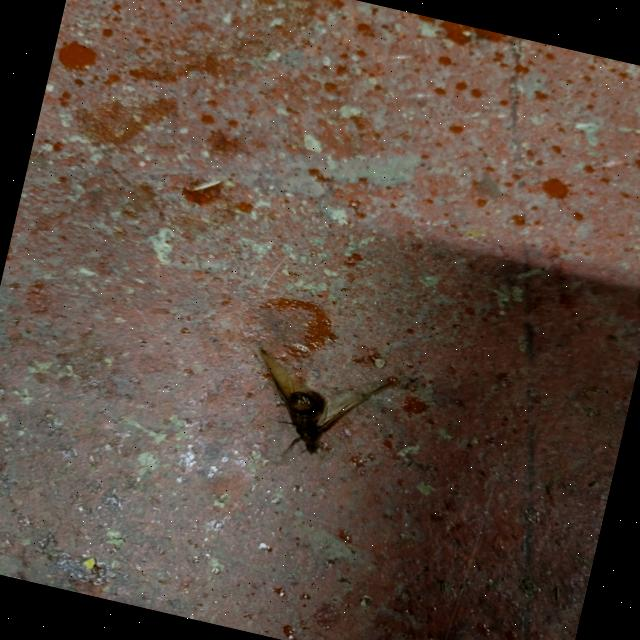Alive-Female-Dealate: (234, 346, 400, 478)
